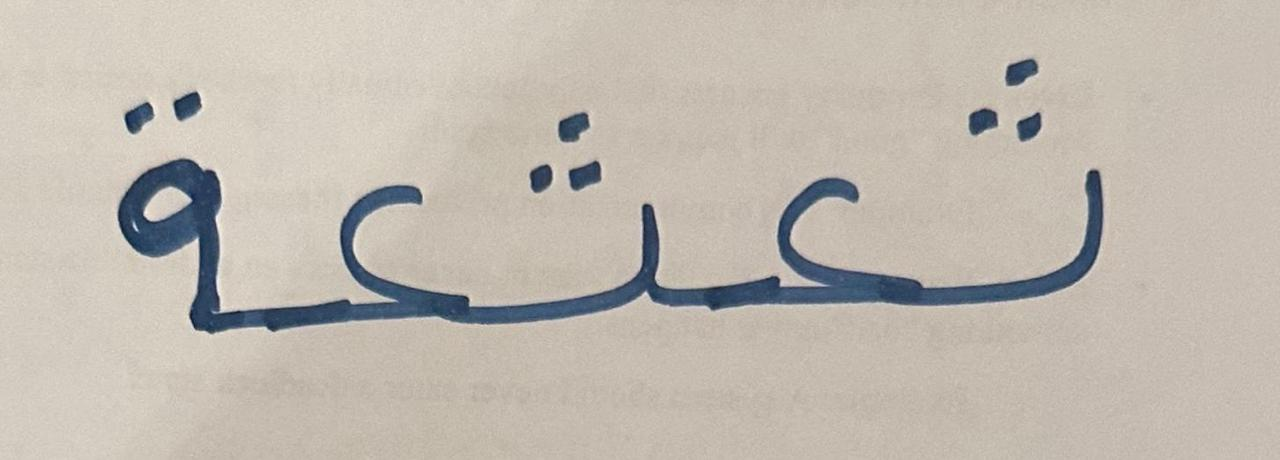ain: (697, 68, 921, 371), (287, 134, 491, 364)
thal: (91, 42, 283, 348)
waw: (925, 22, 1176, 377), (495, 51, 694, 377)
